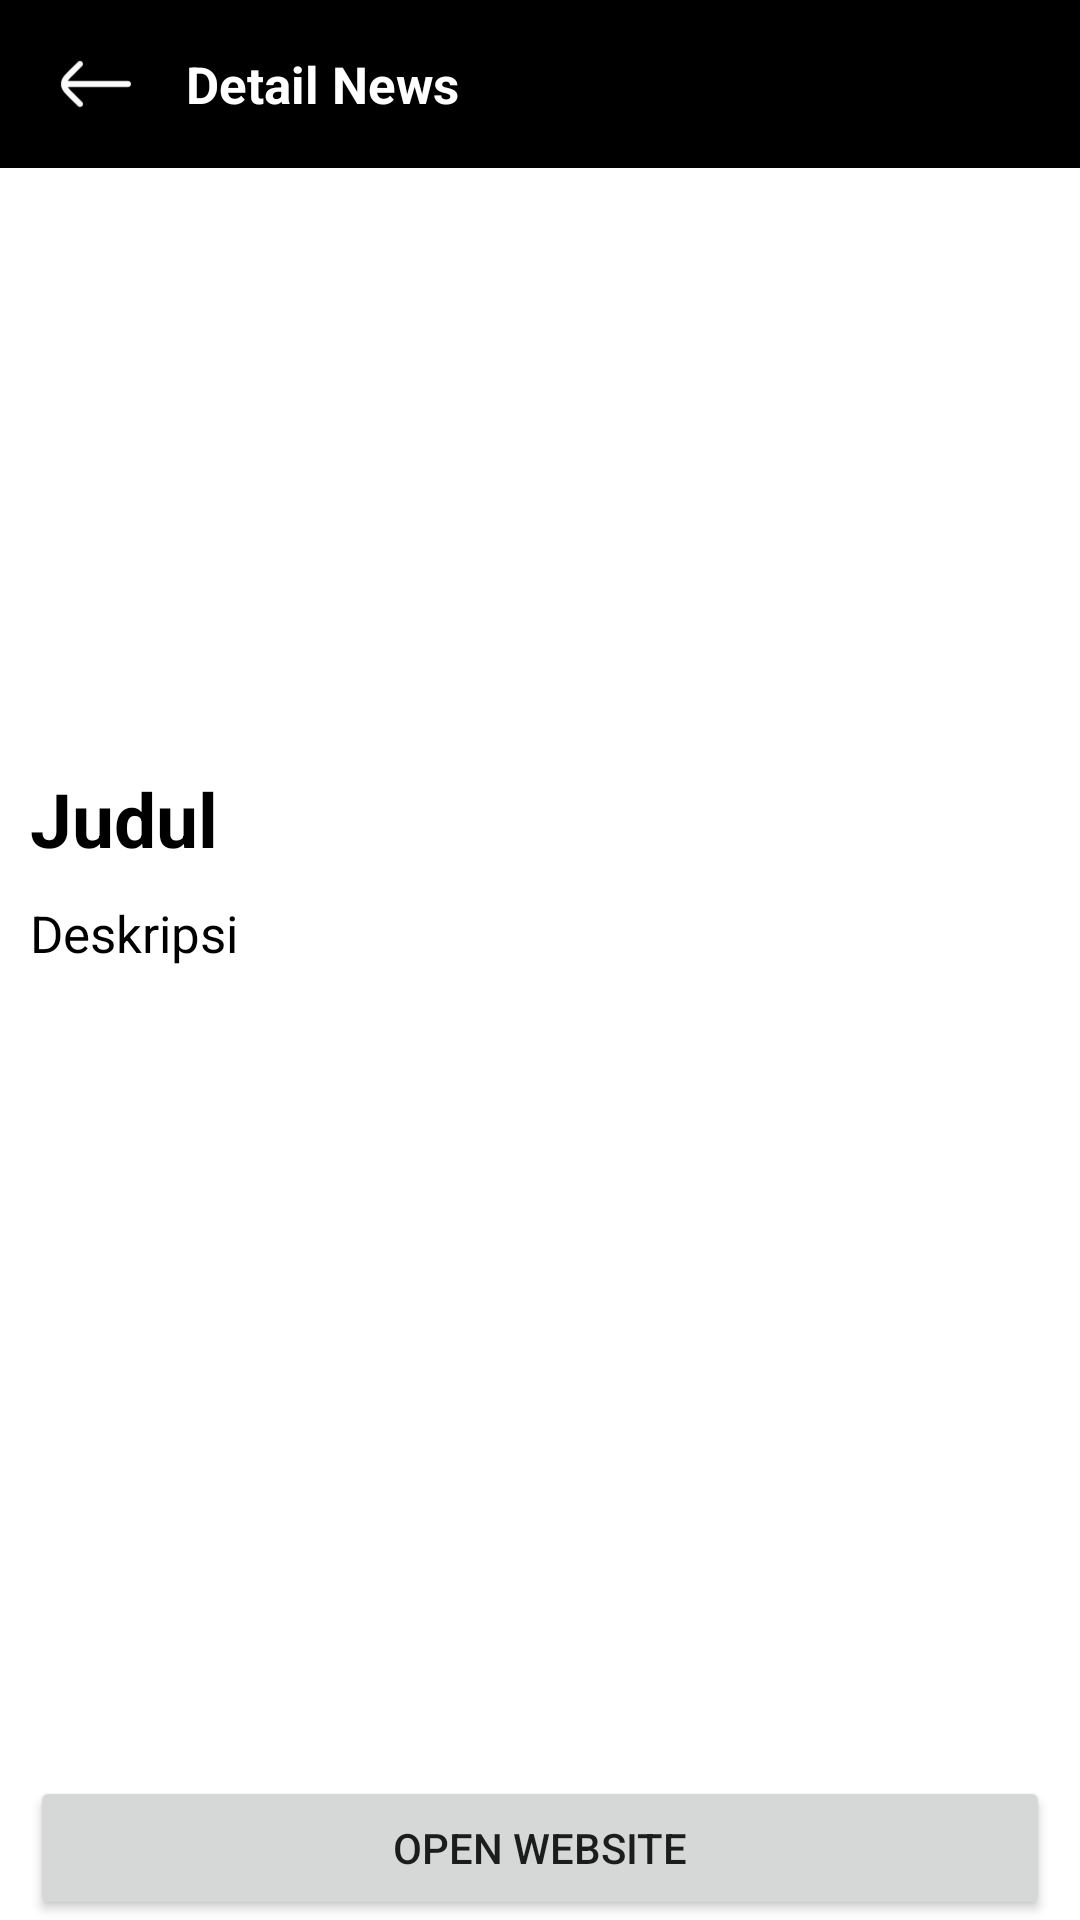

Locate icon controls on the screen. Image size 1080px x 1920px, boxes as bbox(x1, y1, x2, y2).
back arrow: bbox(61, 61, 131, 107)
